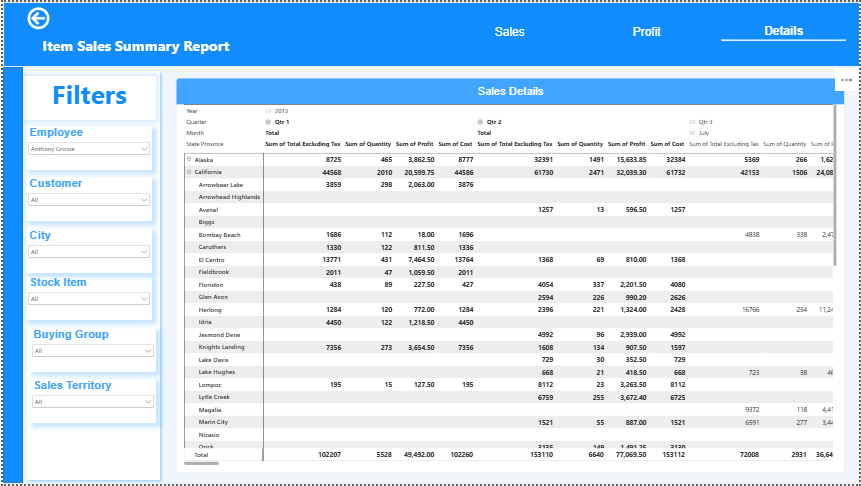

What the dashboard file says about the page in this screenshot:
{"tool":"powerbi","page":{"name":"Details","canvas":[1920,1080],"ordinal":2},"visuals":[{"type":"pivotTable","title":"Sales Details","fields":{"Columns":["DimData.Date.Variation.Date Hierarchy.Year","DimData.Date.Variation.Date Hierarchy.Quarter","DimData.Date.Variation.Date Hierarchy.Month","DimData.Date.Variation.Date Hierarchy.Day"],"Rows":["DimCity.State Province","DimCity.City"],"Values":["Sum(FactSale.Total Excluding Tax)","Sum(FactSale.Quantity)","Sum(FactSale.Profit)","Sum(FactSale.Cost)"]},"box":[387.6,170.3,1497.9,885.1],"z":0},{"type":"shape","box":[0,0,1920.2,145.6],"z":1000},{"type":"shape","box":[44.8,145.6,315.9,934.4],"z":2000},{"type":"slicer","fields":{"Values":["DimEmpolyee.Employee"]},"box":[51.1,278.7,283,97.9],"z":3000},{"type":"textbox","box":[44.8,165.8,298,98.6],"z":4000},{"type":"shape","box":[0,145.6,44.8,932.1],"z":5000},{"type":"textbox","box":[44.8,73.9,506.4,47.1],"z":6000},{"type":"slicer","fields":{"Values":["DimCustomer.Customer"]},"box":[51.1,391.5,283,97.9],"z":7000},{"type":"slicer","fields":{"Values":["DimCity.City"]},"box":[51.1,508.5,283,97.9],"z":8000},{"type":"slicer","fields":{"Values":["DimStockItem.Stock Item"]},"box":[51.1,614.9,283,97.9],"z":9000},{"type":"slicer","fields":{"Values":["DimCustomer.Buying Group"]},"box":[59.6,729.8,283,97.9],"z":10000},{"type":"slicer","fields":{"Values":["DimCity.Sales Territory"]},"box":[59.6,844.7,283,97.9],"z":11000},{"type":"actionButton","box":[0,0,159.6,72.3],"z":12000},{"type":"pageNavigator","box":[985.1,36.2,914.9,61.7],"z":13000}]}

Visuals, with their boxes on the page's 1920x1080 design canvas (x1, y1, x2, y2). These are canvas units, not pixel positions in the 861x486 screenshot, which may show the page scaled, cropped or inside an application window:
"Sales Details" pivotTable: <region>388, 170, 1886, 1055</region>
shape: <region>0, 0, 1920, 146</region>
shape: <region>45, 146, 361, 1080</region>
slicer - DimEmpolyee.Employee: <region>51, 279, 334, 377</region>
textbox: <region>45, 166, 343, 264</region>
shape: <region>0, 146, 45, 1078</region>
textbox: <region>45, 74, 551, 121</region>
slicer - DimCustomer.Customer: <region>51, 392, 334, 489</region>
slicer - DimCity.City: <region>51, 508, 334, 606</region>
slicer - DimStockItem.Stock Item: <region>51, 615, 334, 713</region>
slicer - DimCustomer.Buying Group: <region>60, 730, 343, 828</region>
slicer - DimCity.Sales Territory: <region>60, 845, 343, 943</region>
actionButton: <region>0, 0, 160, 72</region>
pageNavigator: <region>985, 36, 1900, 98</region>
